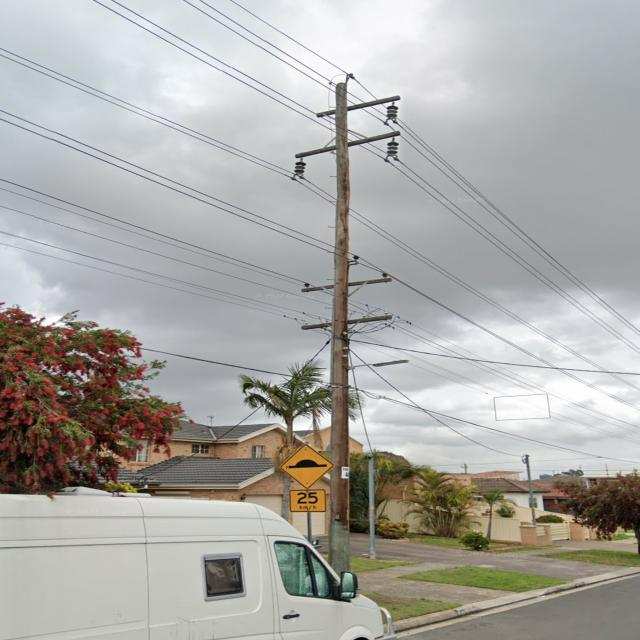HV-transmission: (290, 73, 402, 181), (301, 255, 392, 292)
crossarm: (294, 130, 401, 158), (315, 95, 400, 118), (301, 314, 394, 330), (300, 278, 392, 292)
streetlight: (350, 359, 410, 371)
timber-pole: (328, 76, 351, 579), (525, 455, 537, 526)
